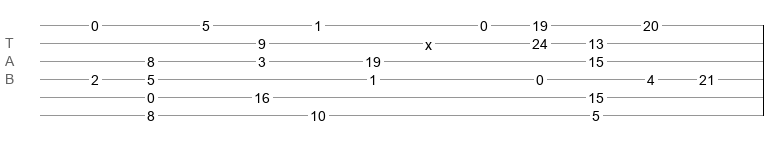0: (91, 18, 99, 28), (147, 90, 155, 100), (480, 18, 488, 28), (536, 72, 544, 82)
1: (314, 18, 322, 28), (369, 72, 377, 82)
10: (310, 108, 326, 118)
13: (588, 36, 604, 46)
15: (588, 54, 604, 64), (588, 90, 604, 100)
16: (254, 90, 270, 100)
19: (365, 54, 381, 64), (532, 18, 548, 28)
2: (91, 72, 99, 82)
20: (643, 18, 659, 28)
21: (699, 72, 715, 82)
24: (532, 36, 548, 46)
3: (258, 54, 266, 64)
4: (647, 72, 655, 82)
5: (147, 72, 155, 82), (202, 18, 210, 28), (592, 108, 600, 118)
8: (147, 108, 155, 118), (147, 54, 155, 64)
9: (258, 36, 266, 46)
x: (425, 37, 432, 45)
